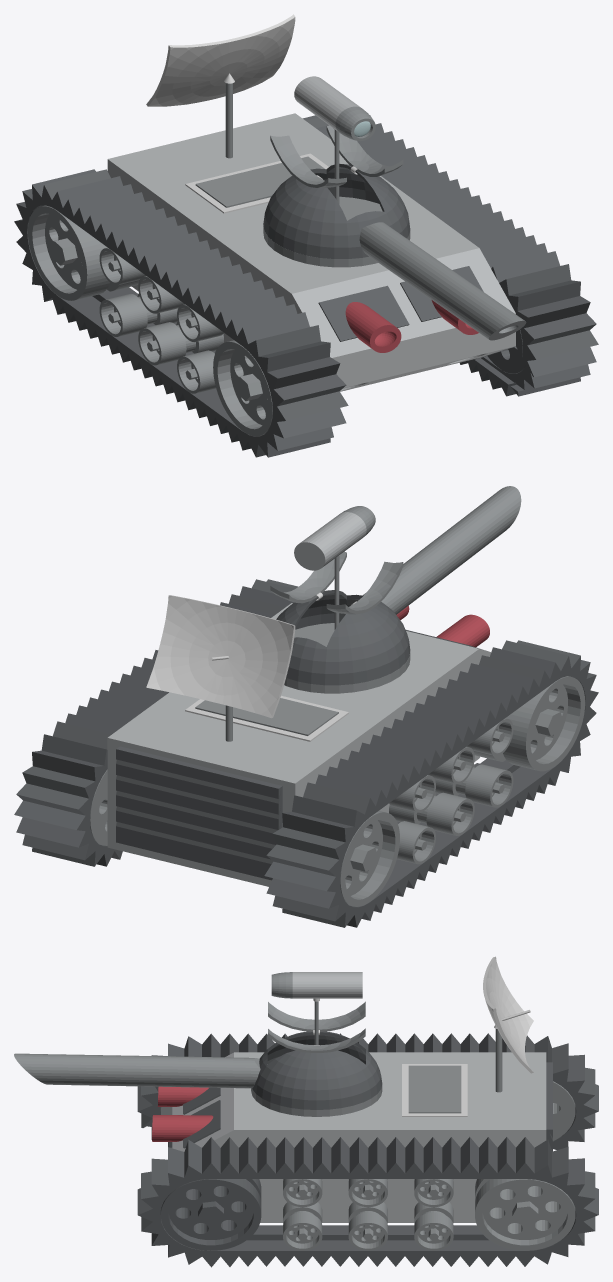
The model's file is wings_of_freedom-tank-4696.glb.
3 views of the same model, one above another, from view 1: azimuth 30°, elevation 25°; view 2: azimuth 150°, elevation 25°; view 3: azimuth 270°, elevation 25° (orthographic). The views are drawn at different scales.
Parts seen in each view (by area): view 1: Mesh_Mesh_head_geo.001_lambert2SG.001; view 2: Mesh_Mesh_head_geo.001_lambert2SG.001; view 3: Mesh_Mesh_head_geo.001_lambert2SG.001.
Part boxes in pixels (x1=…): Mesh_Mesh_head_geo.001_lambert2SG.001: x1=14, y1=14, x2=598, y2=457; Mesh_Mesh_head_geo.001_lambert2SG.001: x1=14, y1=486, x2=598, y2=927; Mesh_Mesh_head_geo.001_lambert2SG.001: x1=14, y1=956, x2=598, y2=1267.
Size of the model in its own units: 0.05 by 0.0413 by 0.0955.
